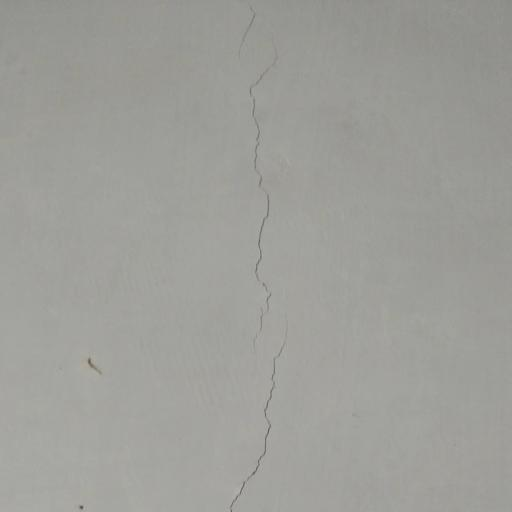minor_crack: (211, 0, 287, 512)
